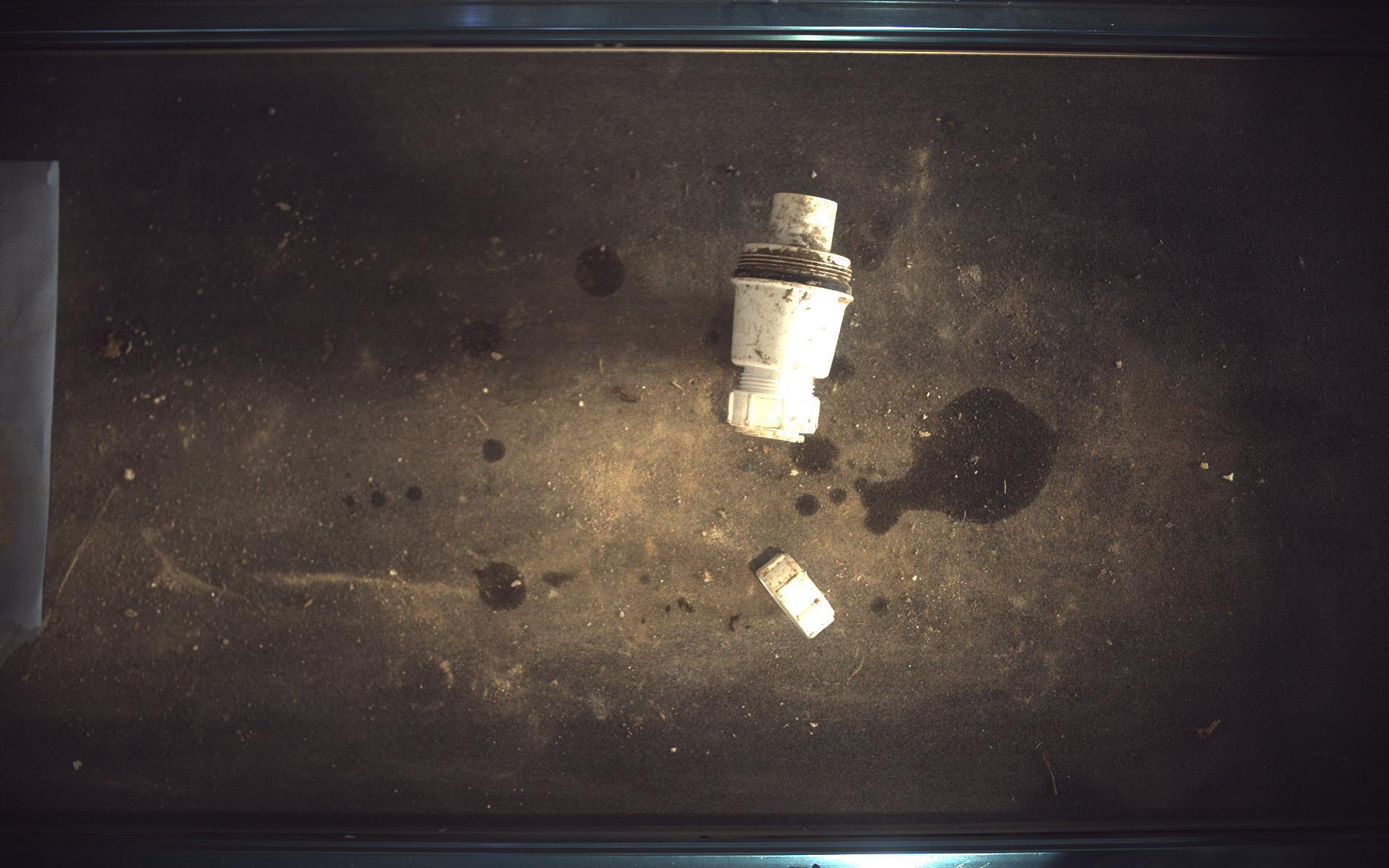plastic: (729, 192, 854, 443), (757, 554, 836, 639)
